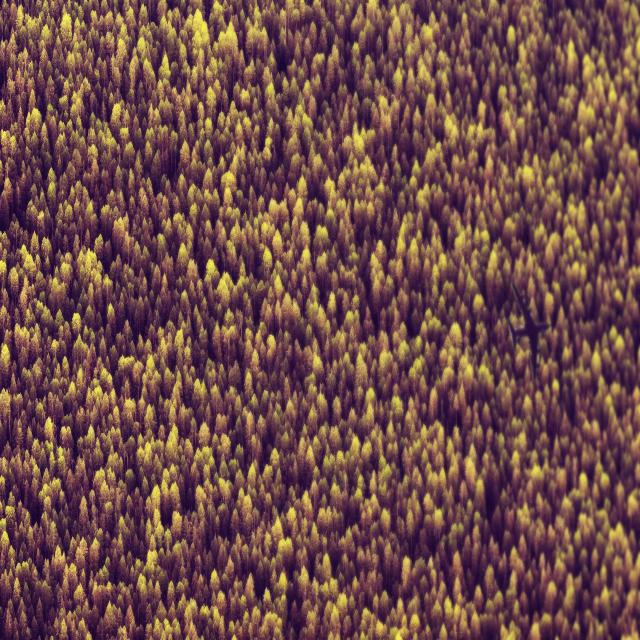airplane: (506, 279, 550, 382)
